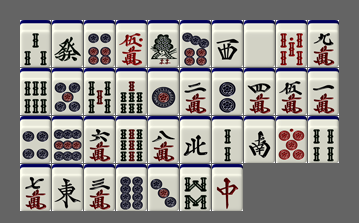0m: (116, 20, 147, 67)
0p: (276, 116, 307, 163)
0s: (276, 20, 307, 67)
1m: (308, 68, 339, 115)
1p: (148, 68, 179, 115)
1s: (148, 20, 179, 67)
1z: (52, 164, 83, 211)
2m: (180, 68, 211, 115)
2p: (212, 68, 243, 115)
2s: (212, 116, 243, 163)
2z: (244, 116, 275, 163)
3m: (84, 164, 115, 211)
3p: (148, 164, 179, 211)
3s: (20, 20, 51, 67)
3z: (212, 20, 243, 67)
4m: (244, 68, 275, 115)
4p: (20, 116, 51, 163)
4s: (308, 116, 339, 163)
4z: (180, 116, 211, 163)
5m: (276, 68, 307, 115)
5p: (52, 68, 83, 115)
5s: (84, 68, 115, 115)
5z: (244, 20, 275, 67)
6m: (84, 116, 115, 163)
6p: (84, 20, 115, 67)
6s: (20, 68, 51, 115)
6z: (52, 20, 83, 67)
7m: (20, 164, 51, 211)
7p: (180, 20, 211, 67)
7s: (116, 68, 147, 115)
7z: (212, 164, 243, 211)
8m: (148, 116, 179, 163)
8p: (116, 164, 147, 211)
8s: (180, 164, 211, 211)
9m: (308, 20, 339, 67)
9p: (52, 116, 83, 163)
9s: (116, 116, 147, 163)
